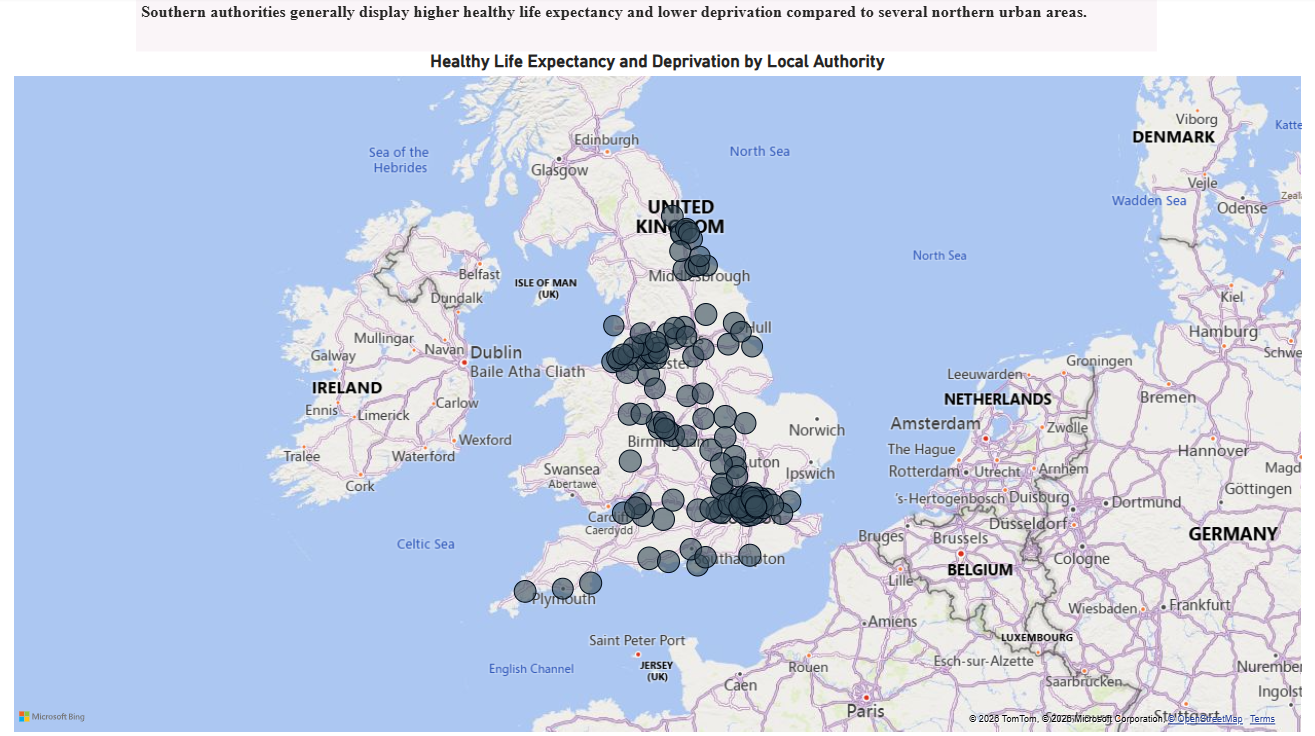

The dashboard page shown, as its layout file describes it:
{"tool":"powerbi","page":{"name":"Health Inequality Across England","canvas":[1280,720],"ordinal":3},"visuals":[{"type":"map","title":"Healthy Life Expectancy and Deprivation by Local Authority","fields":{"Category":["Health_Inequality.local_authority_name"],"Size":["Avg(Health_Inequality.healthy_life_expectancy)"]},"box":[9.7,52.5,1261.5,667.2],"z":0},{"type":"textbox","box":[133.3,0,993.1,52.5],"z":1000}]}

Visuals, with their boxes in screenshot pixels (x1, y1, x2, y2), scaled from the page's 1280x720 canvas onto the 1315x736 screenshot:
"Healthy Life Expectancy and Deprivation by Local Authority" map: detection(10, 54, 1306, 735)
textbox: detection(137, 0, 1157, 54)
